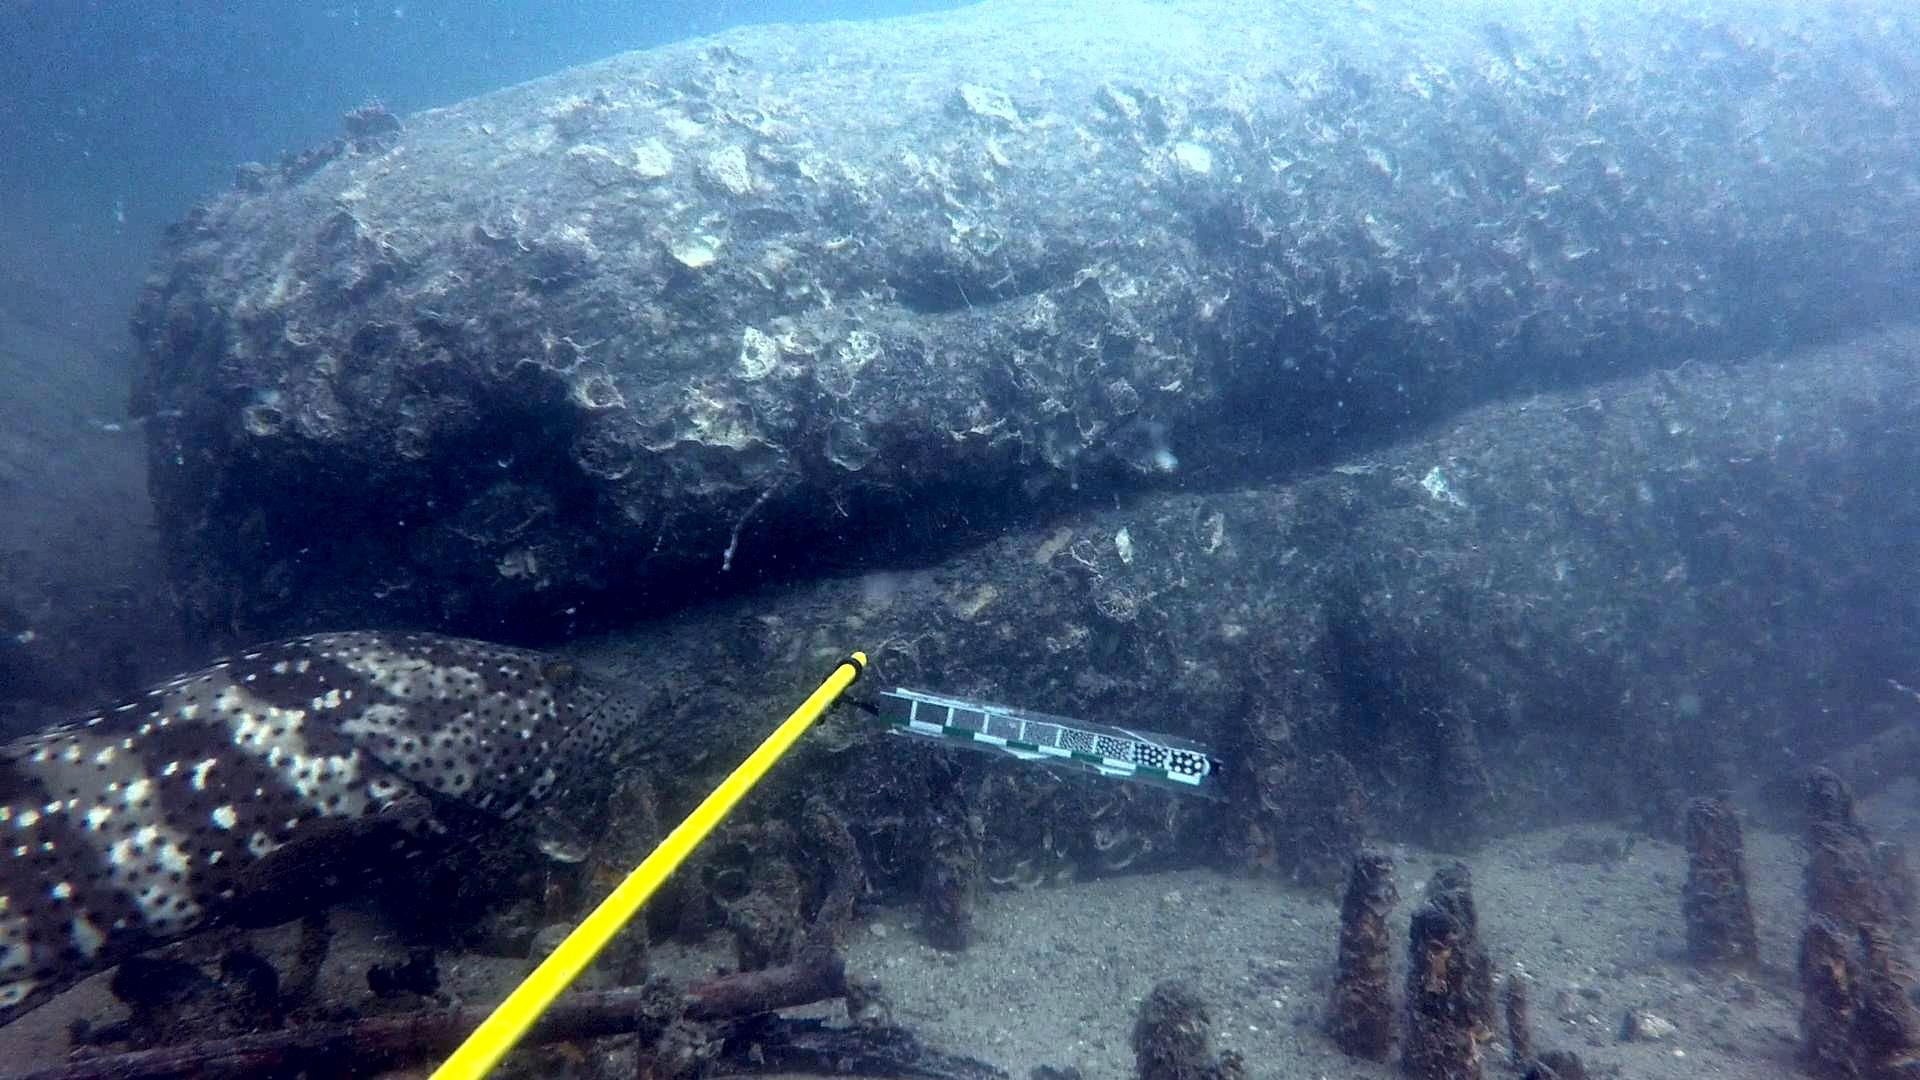epinephelus: (0, 621, 670, 1039)
